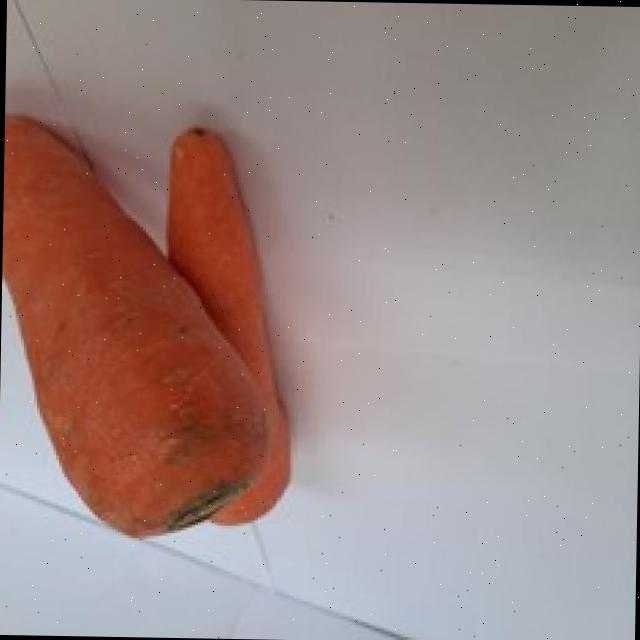carrot: (1, 116, 268, 535), (167, 128, 289, 524)
